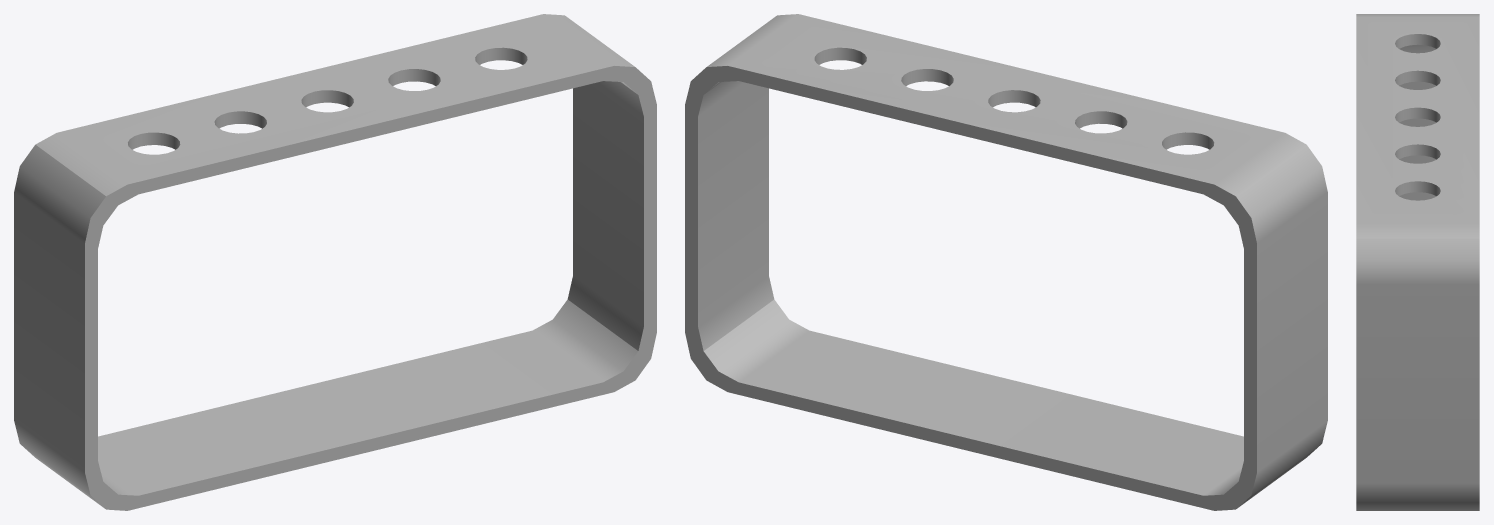
File: Test_tube_rack.fbx
3 renders of one model, left to right at view 1: azimuth 30°, elevation 25°; view 2: azimuth 150°, elevation 25°; view 3: azimuth 270°, elevation 25°, orthographic. The views are drawn at different scales.
Visible parts, largest first — view 1: Test_tube_rack1; view 2: Test_tube_rack1; view 3: Test_tube_rack1.
Boxes of the visible parts, bbox=[...] form: Test_tube_rack1: bbox=[14, 14, 656, 510]; Test_tube_rack1: bbox=[685, 14, 1327, 510]; Test_tube_rack1: bbox=[1356, 14, 1479, 510].
Size of the model in its own units: 41.51 by 22.63 by 8.9.
